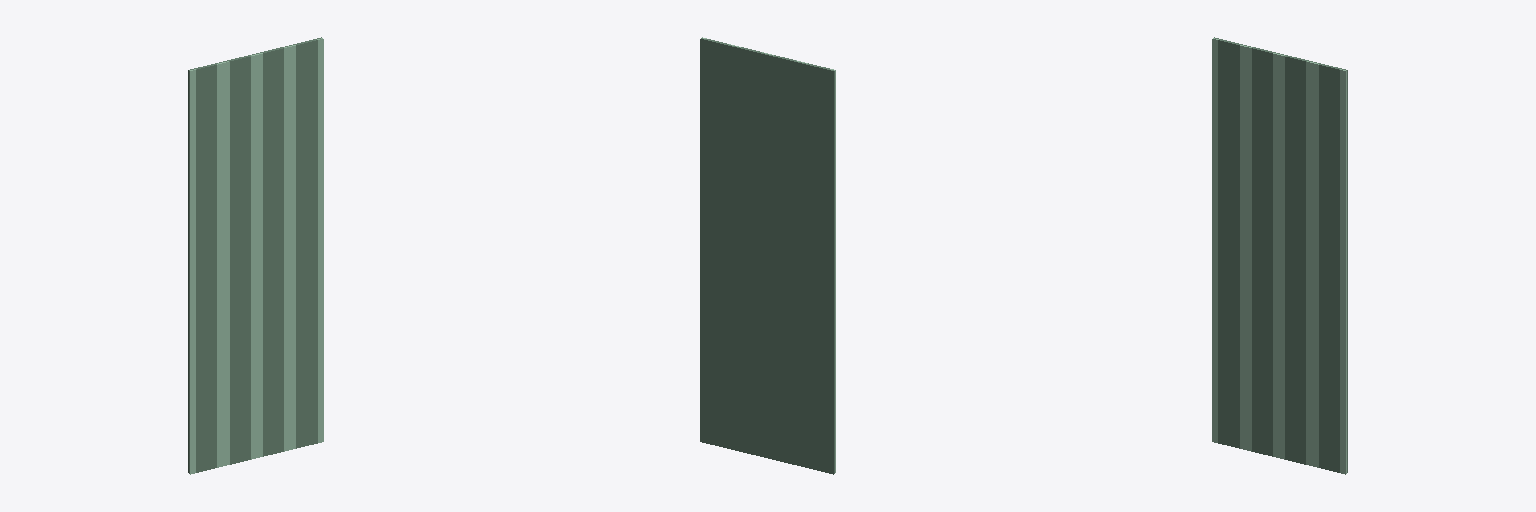
3 views of the same model, side by side, from view 1: azimuth 30°, elevation 25°; view 2: azimuth 150°, elevation 25°; view 3: azimuth 330°, elevation 25° (orthographic).
Visible parts, largest first — view 1: object 1; view 2: object 1; view 3: object 1.
Boxes of the visible parts, x1=… form: object 1: x1=188, y1=37, x2=323, y2=474; object 1: x1=700, y1=37, x2=835, y2=474; object 1: x1=1212, y1=37, x2=1347, y2=474.
Bounding box in the file's own units: 8.8 × 25.4 × 0.2.
Materials: 1 (1 with a texture image).